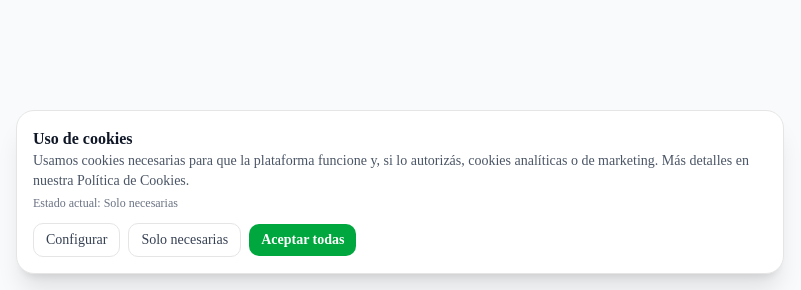
Test: CookieConsentBanner › opens configuration panel
The image size is (801, 290).
Expected: the text "Cookies analíticas" is not shown
What coordinates should you click on to do the following:
click the button "Configurar"
I would click on:
 (77, 240)
Its box is [33,223,120,257].
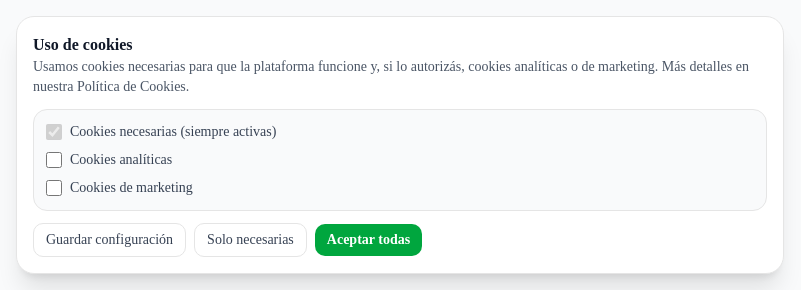
Expected: the text "Cookies analíticas" is shown, [46,152,172,168]
Expected: the text "Cookies de marketing" is shown, [46,180,193,196]
